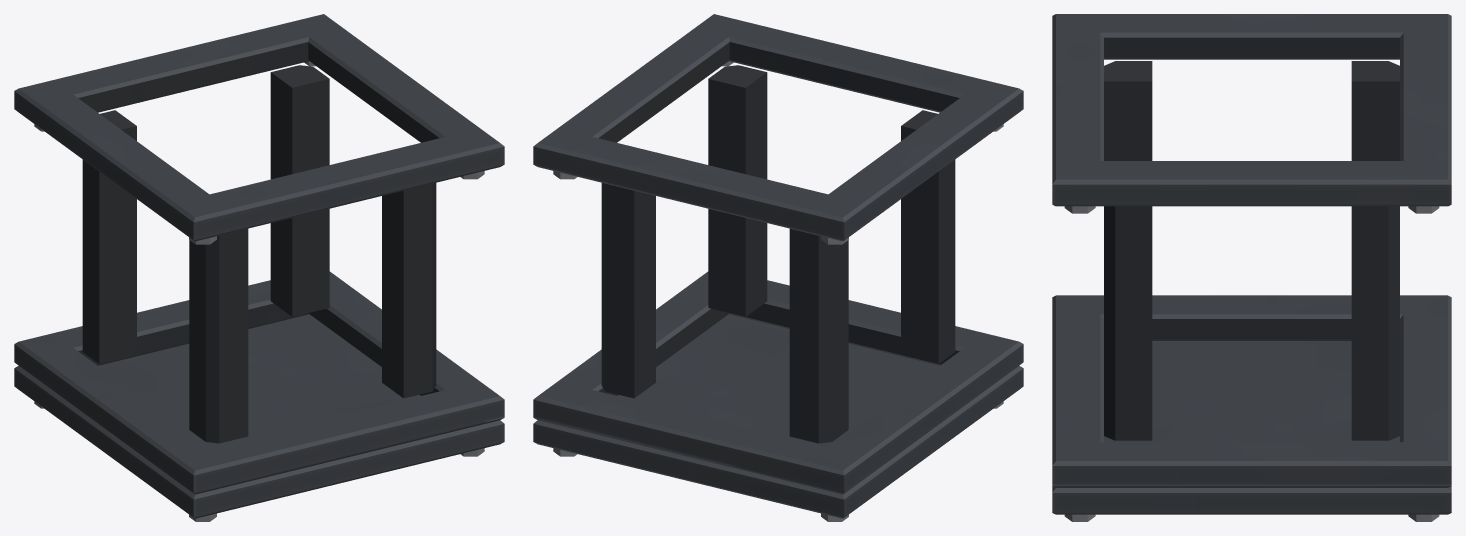
The model's file is end_port_up.obj.
3 views of the same model, side by side, from view 1: azimuth 30°, elevation 25°; view 2: azimuth 150°, elevation 25°; view 3: azimuth 270°, elevation 25° (orthographic). The views are drawn at different scales.
Visible parts, largest first — view 1: end_port_rails, end_port_port, end_port_flange, end_port_blind; view 2: end_port_rails, end_port_port, end_port_flange, end_port_blind; view 3: end_port_port, end_port_flange, end_port_rails, end_port_blind.
Part boxes in pixels (x1,y1,x2,y2): end_port_rails: (82, 65, 436, 443); end_port_port: (14, 14, 504, 241); end_port_flange: (14, 271, 504, 494); end_port_blind: (14, 314, 504, 518); end_port_rails: (601, 65, 955, 443); end_port_port: (533, 14, 1023, 241); end_port_flange: (533, 271, 1023, 494); end_port_blind: (533, 314, 1023, 518); end_port_port: (1052, 14, 1451, 206); end_port_flange: (1052, 295, 1451, 487); end_port_rails: (1104, 61, 1399, 440); end_port_blind: (1052, 341, 1451, 514).
Size of the model in its own units: 0.675 by 0.6469 by 0.675.
